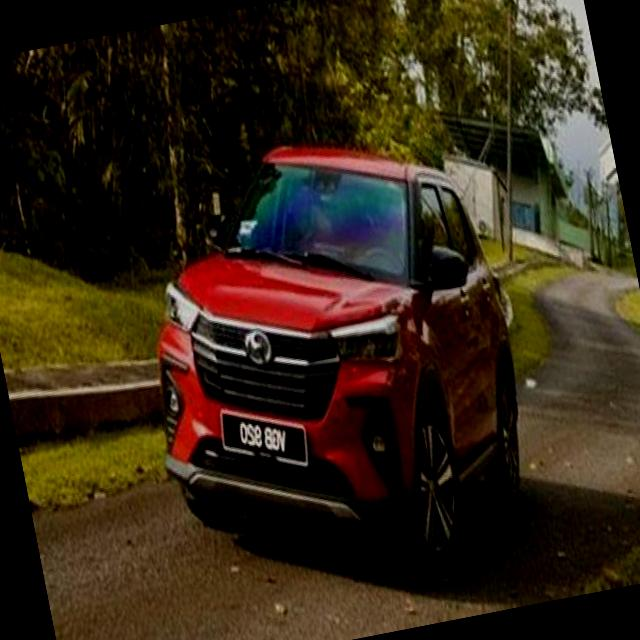PeroduaAtiva: (109, 103, 558, 616)
